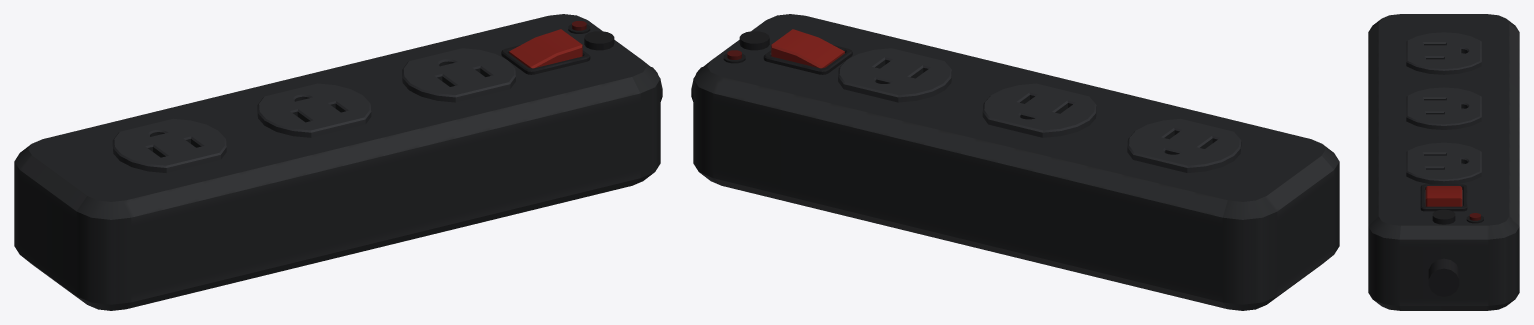
File: off_lowered.obj
The picture shows the model from 3 angles, left to right: view 1: azimuth 30°, elevation 25°; view 2: azimuth 150°, elevation 25°; view 3: azimuth 270°, elevation 25°; orthographic projection. The views are drawn at different scales.
Visible parts, largest first — view 1: strip3_shell, strip3_face_a1, strip3_face_a0, strip3_face_a2, strip3_rocker_off, strip3_bezel, strip3_button; view 2: strip3_shell, strip3_face_a1, strip3_face_a0, strip3_face_a2, strip3_rocker_off, strip3_bezel, strip3_button; view 3: strip3_shell, strip3_face_a1, strip3_face_a0, strip3_face_a2, strip3_grommet, strip3_rocker_off, strip3_bezel, strip3_button.
Part boxes in pixels (x1=…): strip3_shell: x1=14, y1=14, x2=660, y2=310; strip3_face_a1: x1=257, y1=83, x2=371, y2=137; strip3_face_a0: x1=112, y1=118, x2=226, y2=172; strip3_face_a2: x1=402, y1=48, x2=515, y2=102; strip3_rocker_off: x1=509, y1=29, x2=582, y2=68; strip3_bezel: x1=501, y1=45, x2=590, y2=74; strip3_button: x1=584, y1=31, x2=614, y2=50; strip3_shell: x1=693, y1=14, x2=1339, y2=310; strip3_face_a1: x1=982, y1=83, x2=1096, y2=137; strip3_face_a0: x1=1127, y1=118, x2=1241, y2=172; strip3_face_a2: x1=838, y1=48, x2=951, y2=102; strip3_rocker_off: x1=771, y1=29, x2=844, y2=68; strip3_bezel: x1=763, y1=45, x2=852, y2=74; strip3_button: x1=739, y1=31, x2=769, y2=50; strip3_shell: x1=1368, y1=14, x2=1519, y2=310; strip3_face_a1: x1=1406, y1=87, x2=1481, y2=129; strip3_face_a0: x1=1406, y1=32, x2=1481, y2=74; strip3_face_a2: x1=1406, y1=142, x2=1481, y2=184; strip3_grommet: x1=1428, y1=258, x2=1459, y2=296; strip3_rocker_off: x1=1425, y1=186, x2=1462, y2=206; strip3_bezel: x1=1420, y1=184, x2=1467, y2=211; strip3_button: x1=1432, y1=209, x2=1455, y2=224.
Bounding box in the file's own units: 0.3135 × 0.0609 × 0.087.
